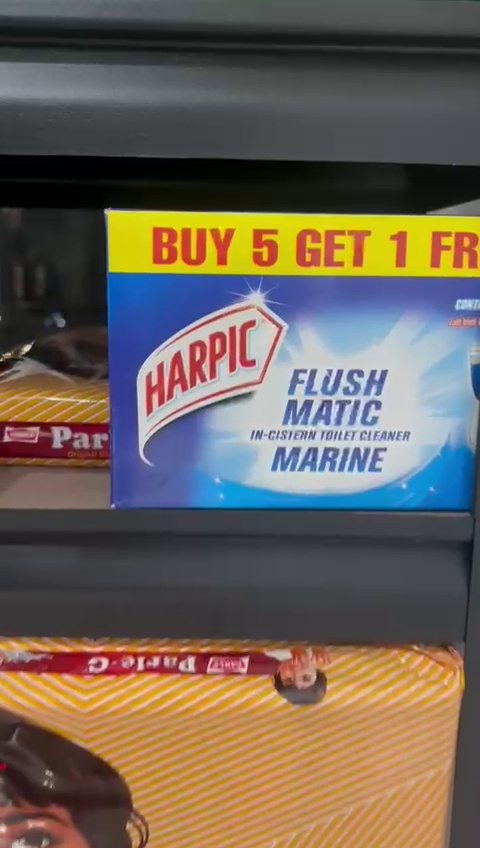Harpic: (107, 211, 480, 510)
